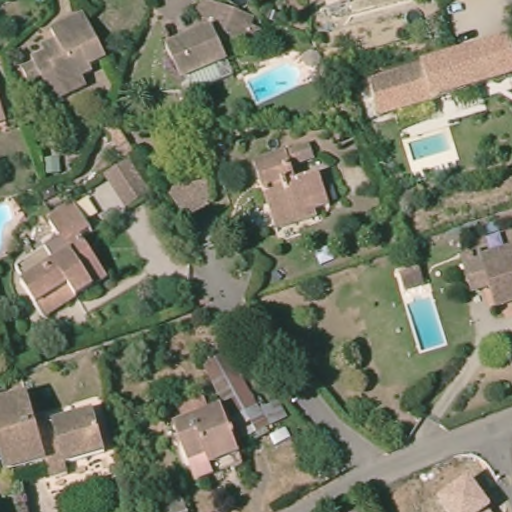pool: (404, 289, 449, 354), (244, 62, 306, 104), (405, 127, 452, 165)
